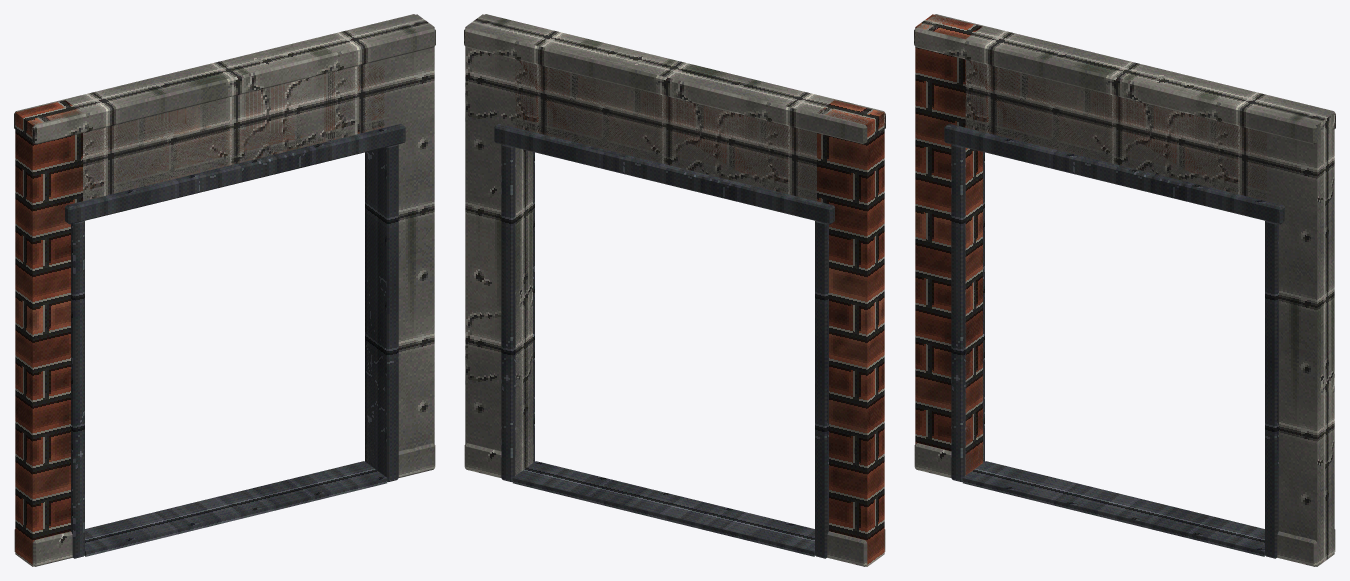
The model's file is wall_brick_door.glb.
The picture shows the model from 3 angles, left to right: view 1: azimuth 30°, elevation 25°; view 2: azimuth 150°, elevation 25°; view 3: azimuth 330°, elevation 25°; orthographic projection.
Parts seen in each view (by area): view 1: wall_brick_door_mesh, wall_brick_door_col-colonly.002, wall_brick_door_col-colonly.001; view 2: wall_brick_door_mesh, wall_brick_door_col-colonly.002, wall_brick_door_col-colonly.001; view 3: wall_brick_door_mesh, wall_brick_door_col-colonly.002, wall_brick_door_col-colonly.001.
Part boxes in pixels (x1=…): wall_brick_door_mesh: x1=14, y1=14, x2=435, y2=566; wall_brick_door_col-colonly.002: x1=66, y1=26, x2=384, y2=200; wall_brick_door_col-colonly.001: x1=367, y1=14, x2=434, y2=464; wall_brick_door_mesh: x1=464, y1=14, x2=885, y2=566; wall_brick_door_col-colonly.002: x1=515, y1=26, x2=833, y2=200; wall_brick_door_col-colonly.001: x1=465, y1=14, x2=532, y2=475; wall_brick_door_mesh: x1=914, y1=14, x2=1335, y2=566; wall_brick_door_col-colonly.002: x1=965, y1=26, x2=1283, y2=200; wall_brick_door_col-colonly.001: x1=1267, y1=100, x2=1334, y2=566.
Size of what is drawn, in the model's own units: 4 by 4.2 by 0.44.
Materials: 3 (3 with a texture image).
